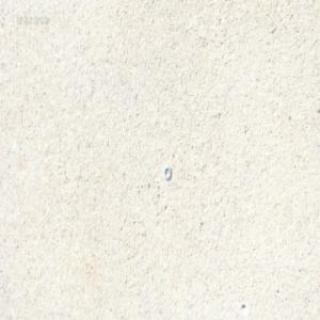Washertrack_idkeyframe: (164, 163, 172, 180)
